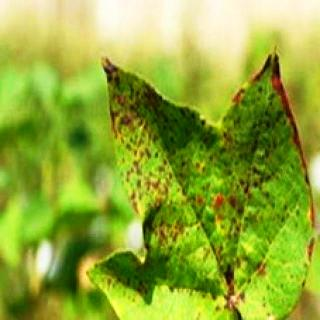leaf spot: (100, 48, 318, 316)
